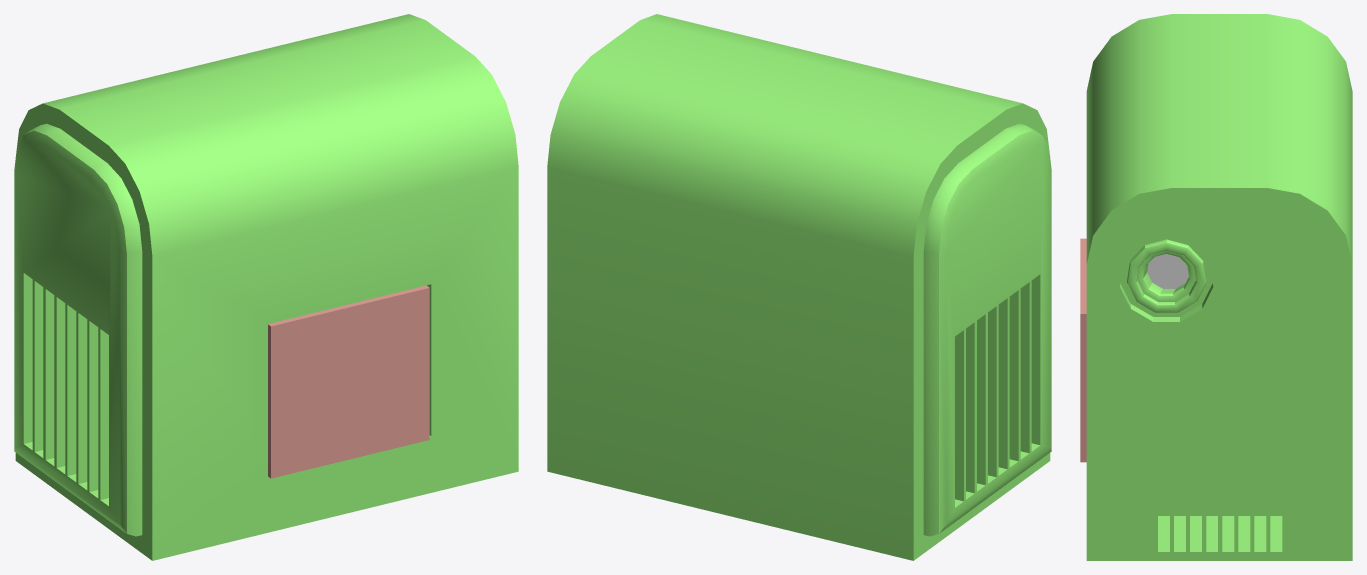
Rendered from BLEU_SCREEN_GENERATOR_1.fbx.
The picture shows the model from 3 angles, left to right: view 1: azimuth 30°, elevation 25°; view 2: azimuth 150°, elevation 25°; view 3: azimuth 270°, elevation 25°; orthographic projection. The views are drawn at different scales.
Parts seen in each view (by area): view 1: Cube, Cube.001; view 2: Cube; view 3: Cube, Cube.001.
Part boxes in pixels (<box>): Cube: <box>14,14,518,560</box>; Cube.001: <box>268,285,429,478</box>; Cube: <box>547,14,1051,560</box>; Cube: <box>1086,14,1352,560</box>; Cube.001: <box>1080,238,1086,462</box>.
Size of the model in its own units: 105 by 100 by 66.12.
